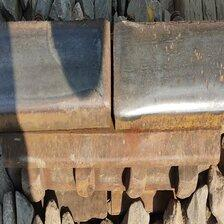railway-gap: (26, 0, 197, 151)
